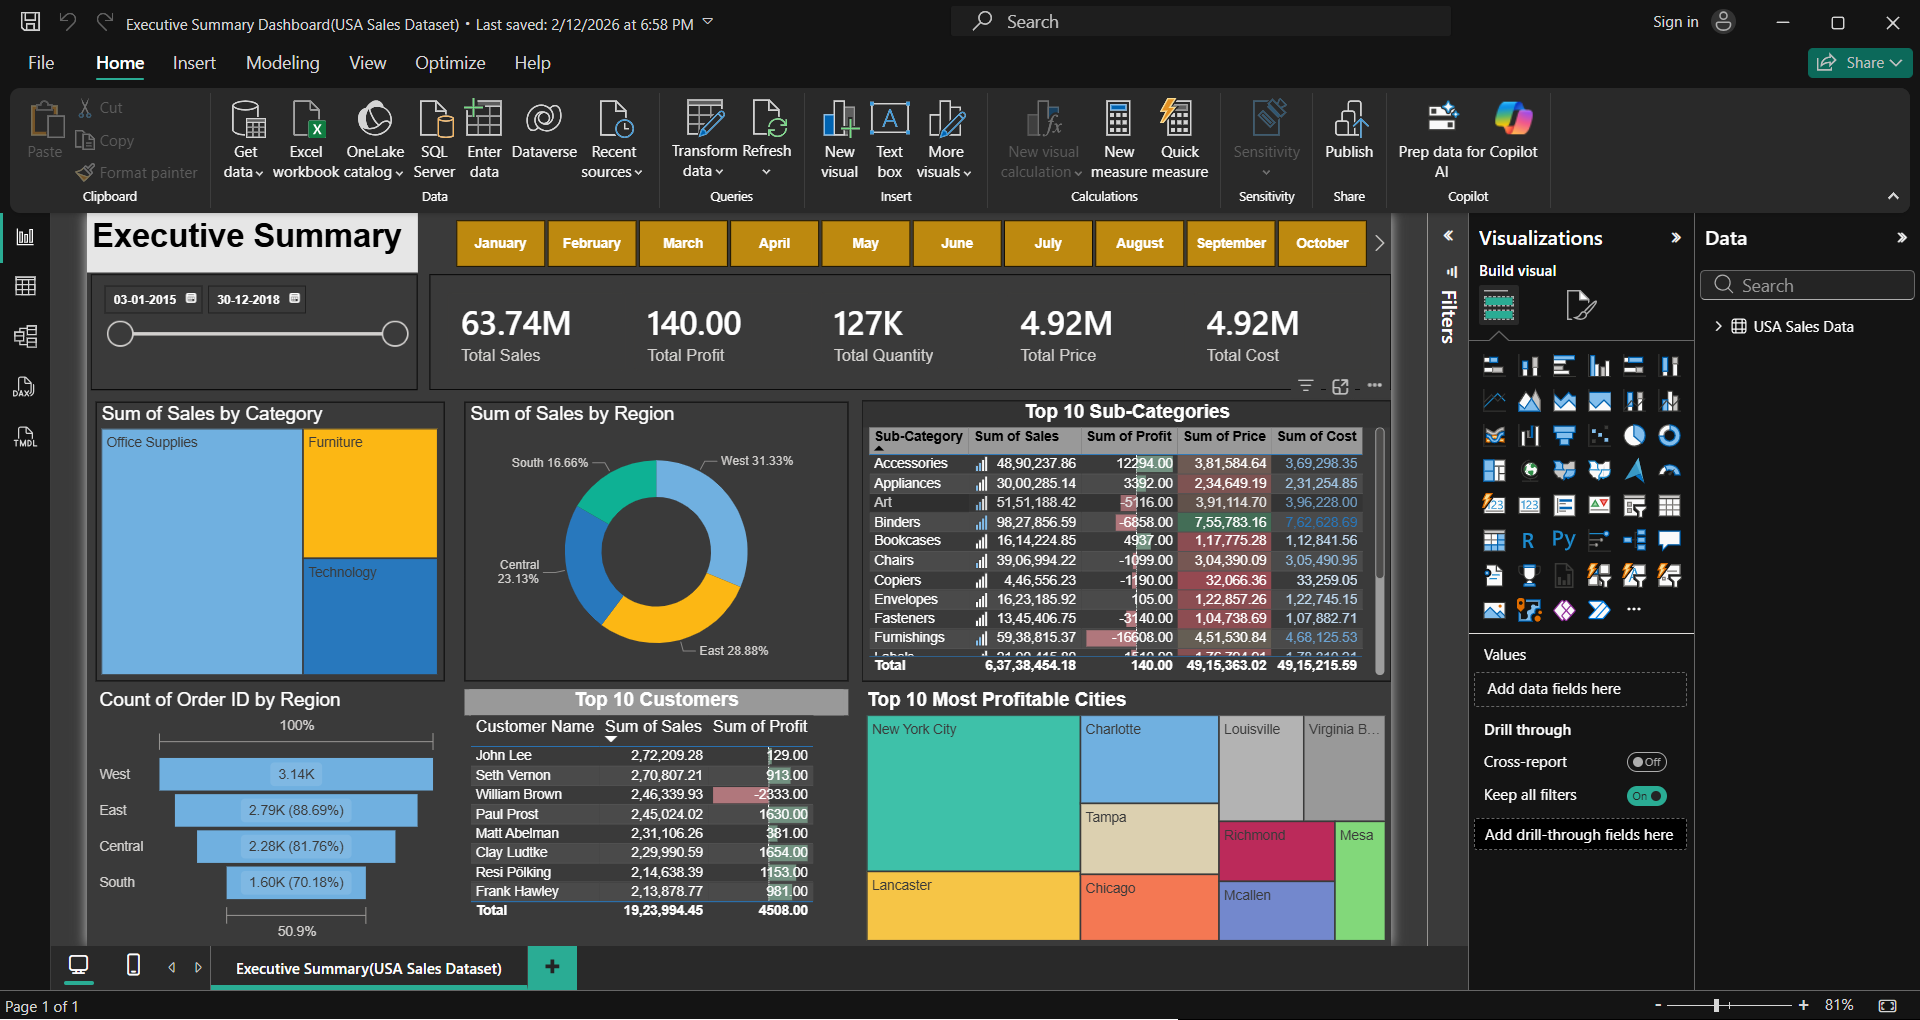

What the dashboard file says about the page in this screenshot:
{"tool":"powerbi","page":{"name":"Executive Summary(USA Sales Dataset)","canvas":[1280,720],"ordinal":0},"visuals":[{"type":"textbox","box":[0,0,324.7,58.5],"z":0},{"type":"slicer","fields":{"Values":["USA Sales Data.Order Date.Variation.Date Hierarchy.Month"]},"box":[335.9,0,944.2,59.7],"z":1000},{"type":"slicer","fields":{"Values":["USA Sales Data.Order Date"]},"box":[3.7,59.7,320.9,113.2],"z":2000},{"type":"cardVisual","fields":{"Data":["Sum(USA Sales Data.Sales)","Sum(USA Sales Data.Profit)","Sum(USA Sales Data.Quantity)","Sum(USA Sales Data.Price)","Sum(USA Sales Data.Cost)"]},"box":[335.9,59.7,944.2,113.2],"z":3000},{"type":"treemap","fields":{"Group":["USA Sales Data.Category"],"Values":["Sum(USA Sales Data.Sales)"]},"box":[8.1,185.2,342,274.4],"z":4000},{"type":"donutChart","fields":{"Category":["USA Sales Data.Region"],"Y":["Sum(USA Sales Data.Sales)"]},"box":[370.4,185.2,377.2,274.4],"z":5000},{"type":"tableEx","title":"Top 10 Sub-Categories","fields":{"Values":["USA Sales Data.Sub-Category","Sum(USA Sales Data.Sales)","Sum(USA Sales Data.Profit)","Sum(USA Sales Data.Price)","Sum(USA Sales Data.Cost)"]},"box":[761.1,183.9,519.1,275.8],"z":6000},{"type":"funnel","fields":{"Category":["USA Sales Data.Region"],"Y":["CountNonNull(USA Sales Data.Order ID)"]},"box":[7.7,467.7,342.5,253],"z":7000},{"type":"tableEx","title":"Top 10 Customers","fields":{"Values":["USA Sales Data.Customer Name","Sum(USA Sales Data.Sales)","Sum(USA Sales Data.Profit)"]},"box":[370,468,377,252],"z":8000},{"type":"bookmarkNavigator","box":[0,0,600,50],"z":10000},{"type":"treemap","title":"Top 10 Most Profitable Cities","fields":{"Group":["USA Sales Data.City"],"Values":["Sum(USA Sales Data.Profit)"]},"box":[761,468,519,252],"z":10001}]}

Visuals, with their boxes on the page's 1280x720 design canvas (x1, y1, x2, y2). These are canvas units, not pixel positions in the 1920x1020 screenshot, which may show the page scaled, cropped or inside an application window:
textbox: box=[0, 0, 325, 58]
slicer - USA Sales Data.Order Date.Variation.Date Hierarchy.Month: box=[336, 0, 1280, 60]
slicer - USA Sales Data.Order Date: box=[4, 60, 325, 173]
cardVisual - Sum(USA Sales Data.Sales) x Sum(USA Sales Data.Profit): box=[336, 60, 1280, 173]
treemap - USA Sales Data.Category x Sum(USA Sales Data.Sales): box=[8, 185, 350, 460]
donutChart - USA Sales Data.Region x Sum(USA Sales Data.Sales): box=[370, 185, 748, 460]
"Top 10 Sub-Categories" tableEx: box=[761, 184, 1280, 460]
funnel - USA Sales Data.Region x CountNonNull(USA Sales Data.Order ID): box=[8, 468, 350, 721]
"Top 10 Customers" tableEx: box=[370, 468, 747, 720]
bookmarkNavigator: box=[0, 0, 600, 50]
"Top 10 Most Profitable Cities" treemap: box=[761, 468, 1280, 720]
